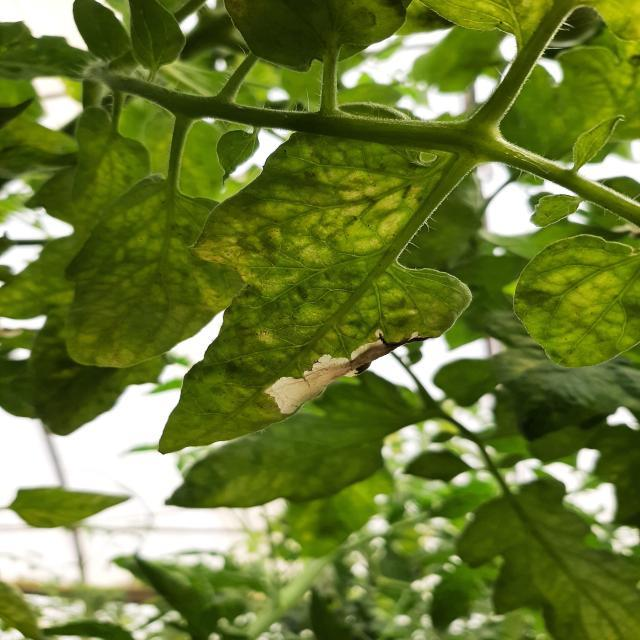Tuta absoluta: (263, 321, 392, 421)
